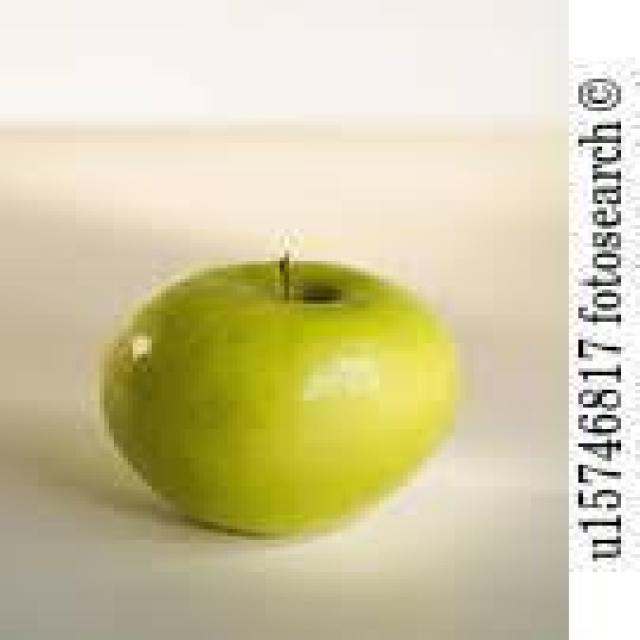maca: (95, 239, 460, 536)
